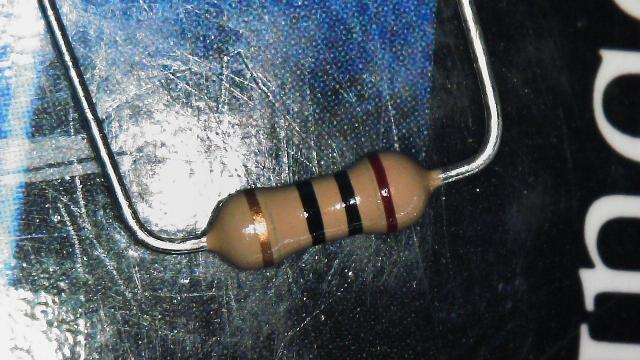black: (296, 181, 326, 246), (334, 170, 362, 236)
brown: (369, 154, 398, 232)
gold: (244, 188, 272, 264)
resistor: (172, 125, 458, 310)
